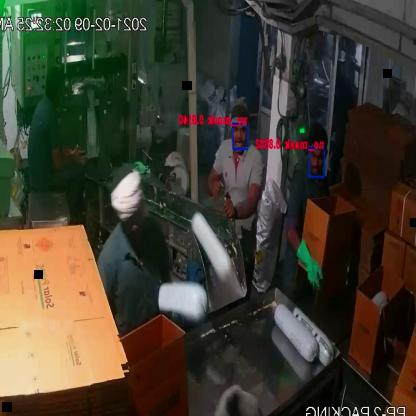glove: (292, 231, 326, 293)
no_glove: (220, 168, 270, 236), (43, 130, 90, 179), (199, 159, 224, 205)
